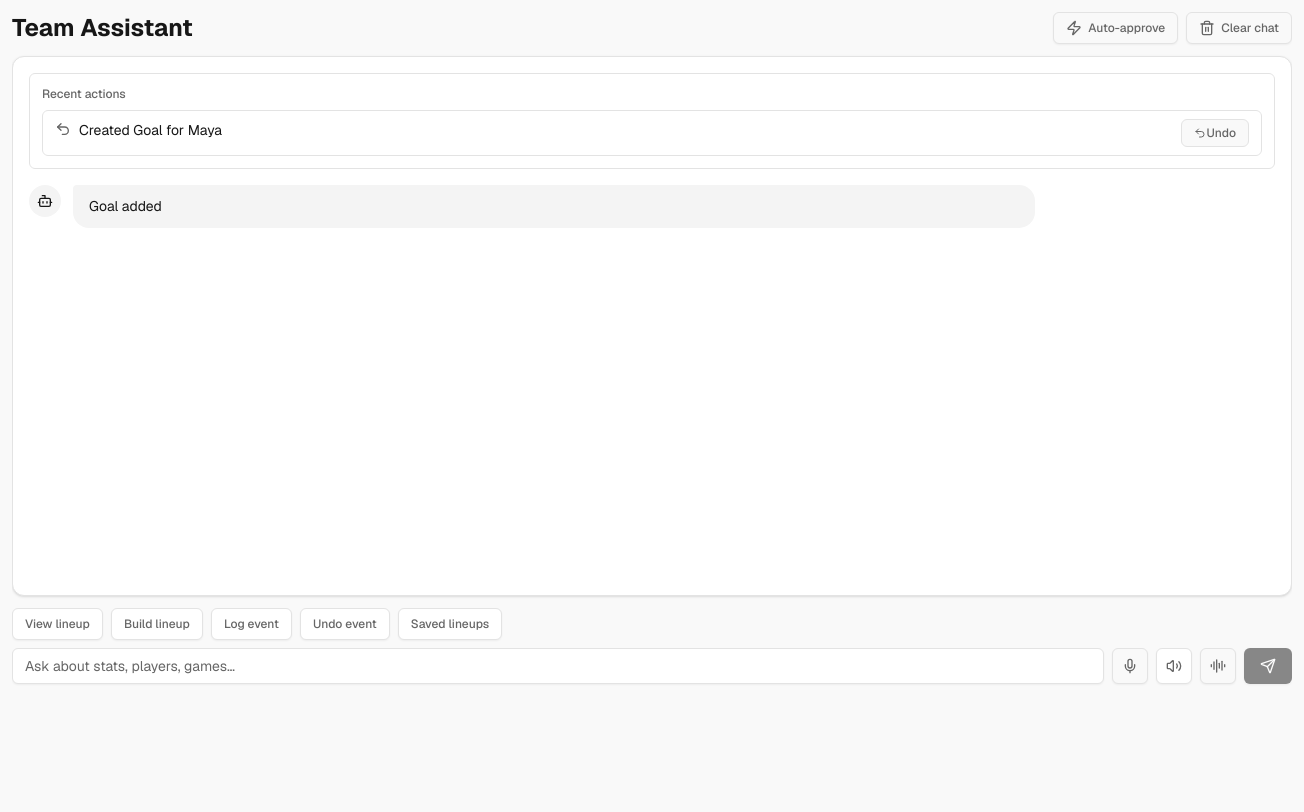
it: Chat action receipts › flips a card to Undone after a successful undo POST
Click the button "Undo" at (1215, 133), box [1182,119,1249,147]
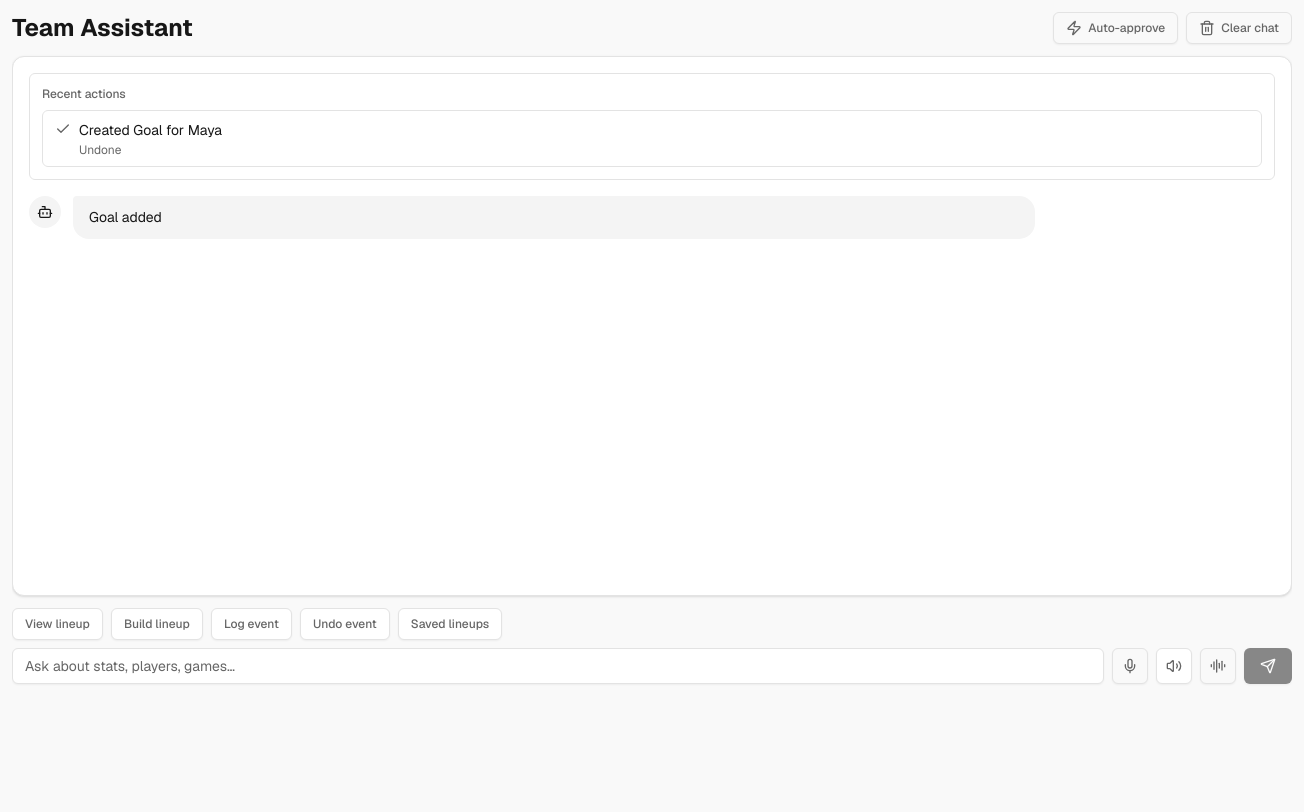
Check: the text "Undone" is shown, box [79,142,121,158]
